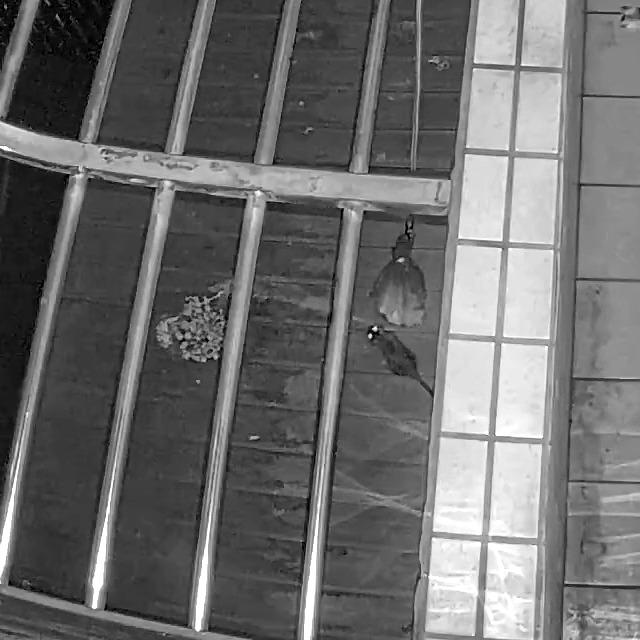rat: (365, 324, 435, 399)
